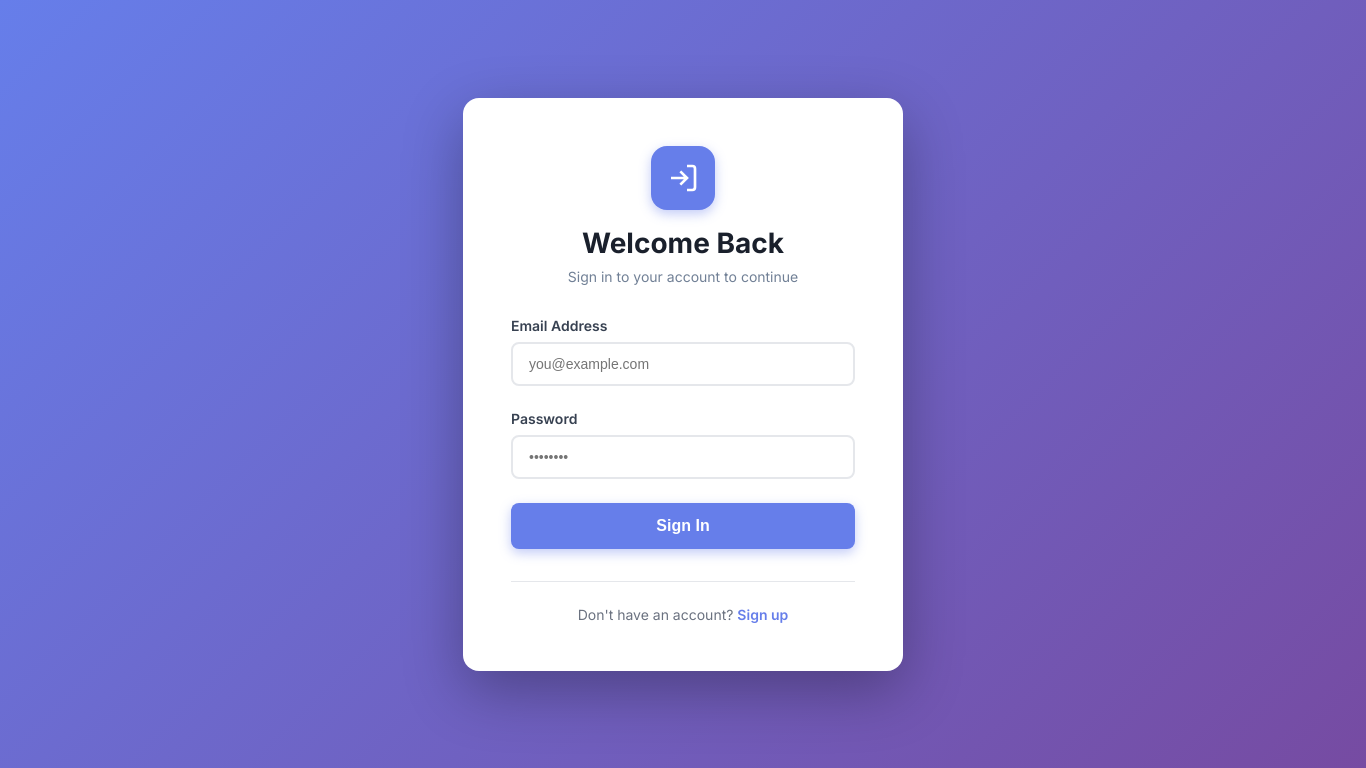
it: SigninPage - Unit Tests › displays API error message for non-401 errors
Type "test@example.com" into the field labelled "Email Address" at (683, 364), box [511,342,855,386]
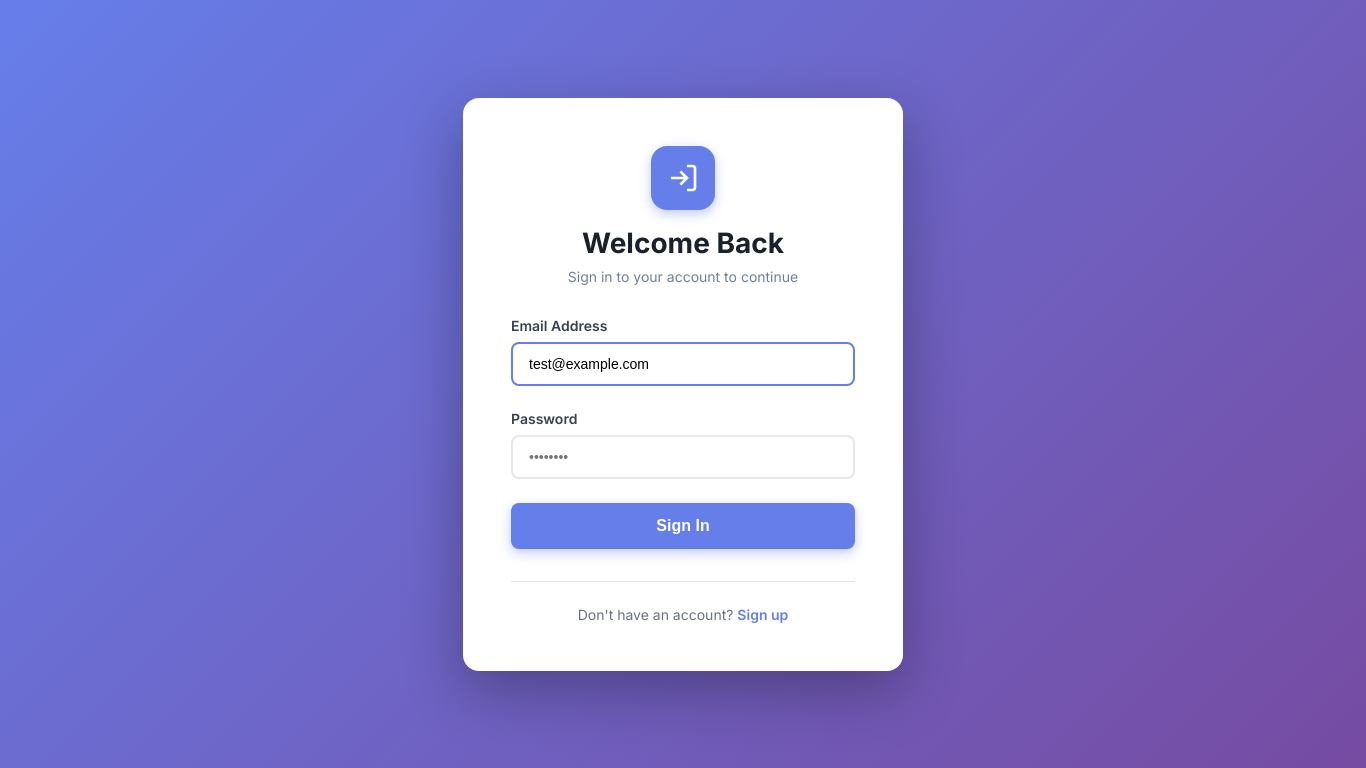
Type "Password123!" into the password field labelled "Password" at (683, 456), box [511,434,855,478]
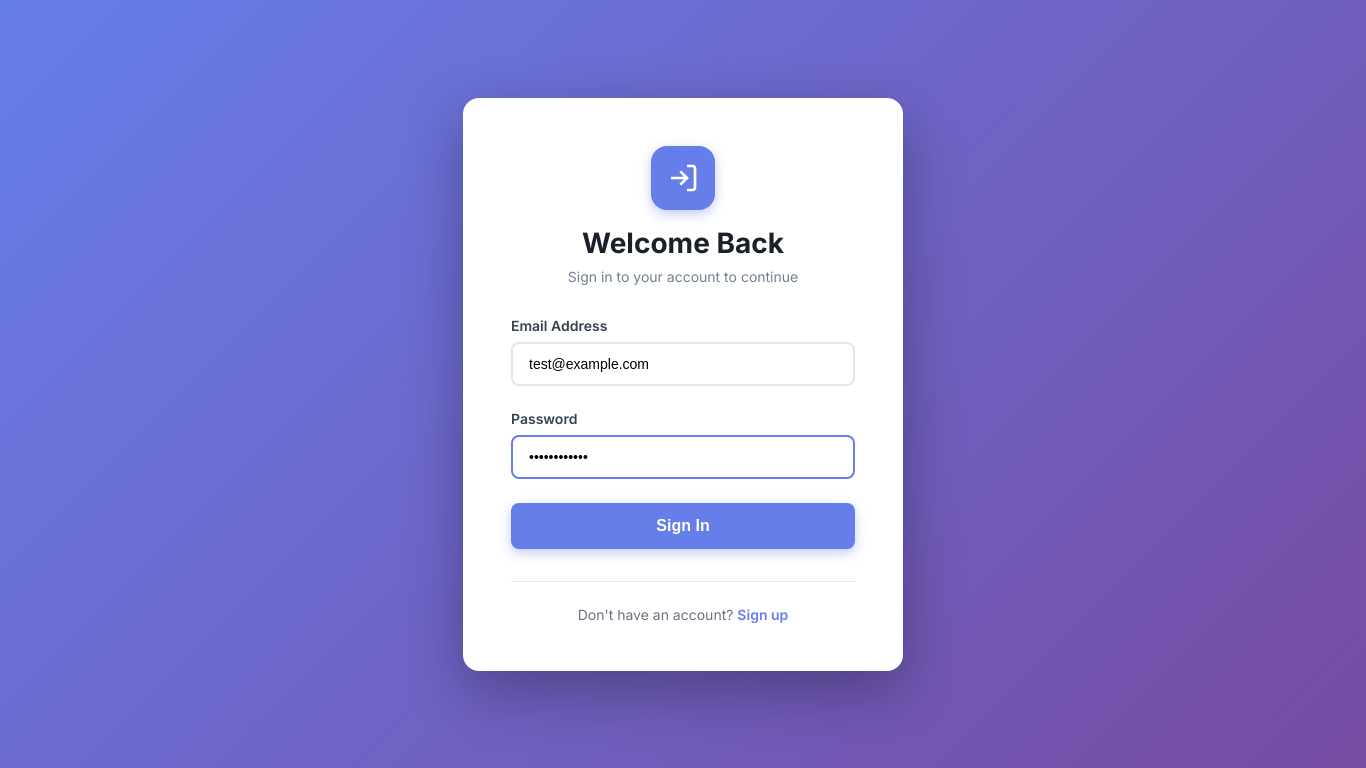
Click the button "Sign In" at (683, 526), box [511,502,855,548]
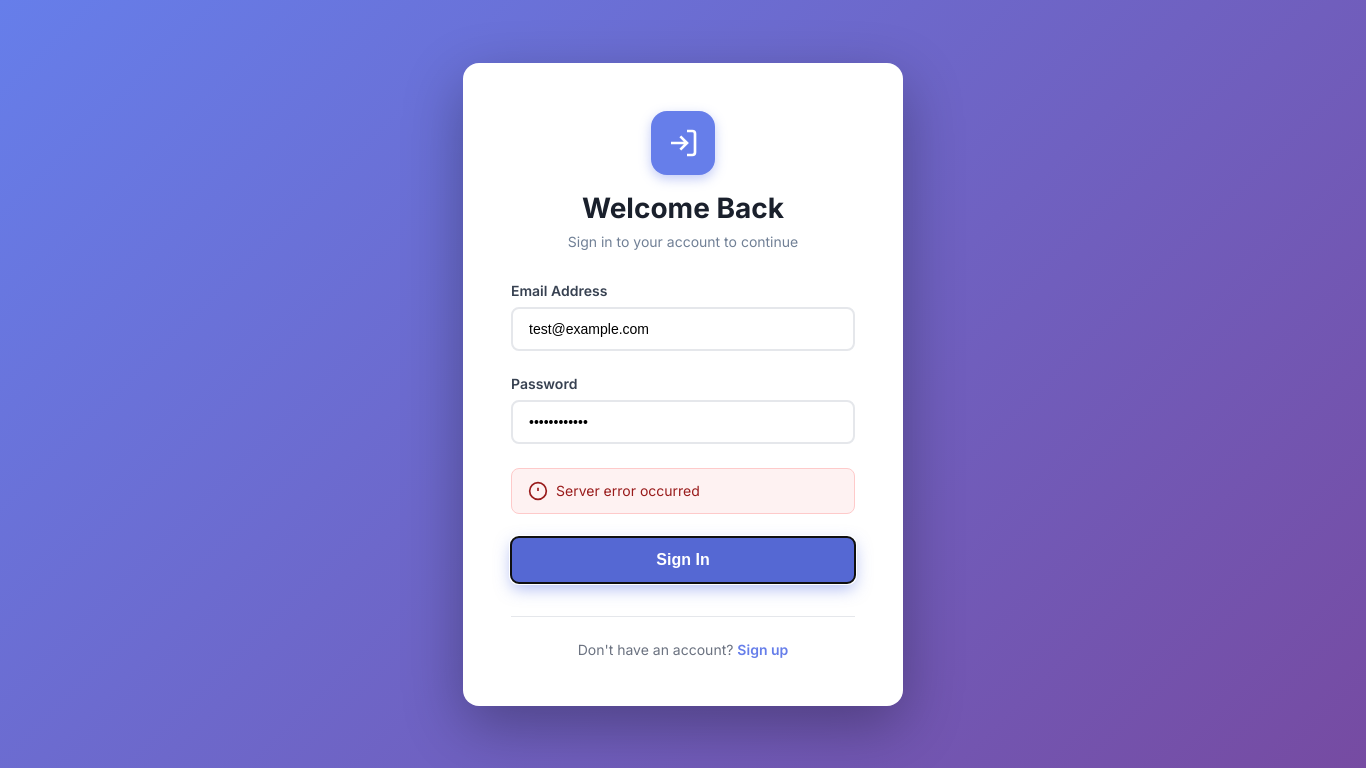
Check: the text "Server error occurred" is shown, box [511,468,855,514]
